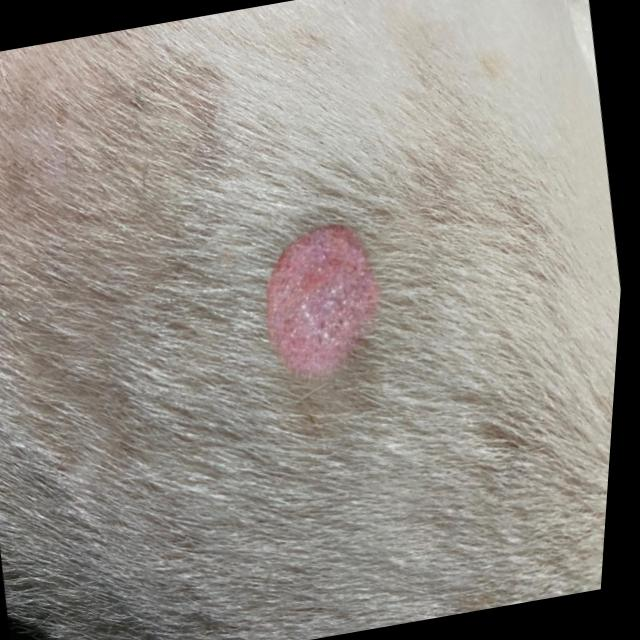ringworm: (229, 167, 410, 403)
